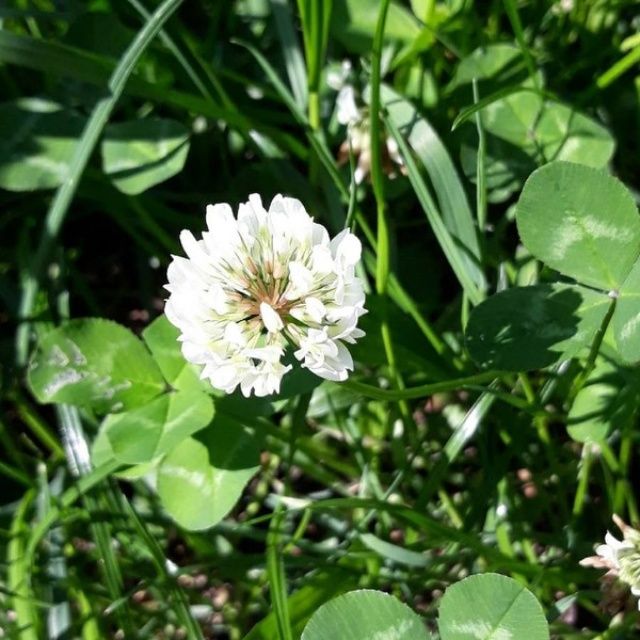obstacle: (414, 102, 624, 379), (163, 187, 390, 425)
